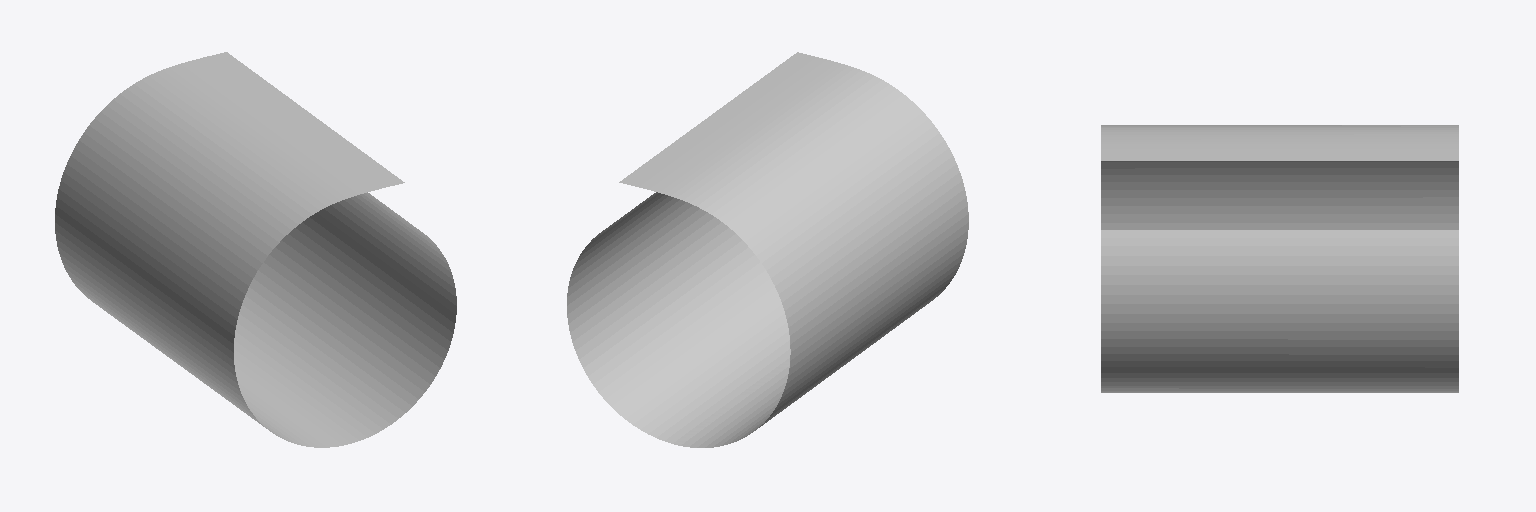
Rendered from CurvePaper_000003.obj.
The picture shows the model from 3 angles: view 1: azimuth 30°, elevation 25°; view 2: azimuth 150°, elevation 25°; view 3: azimuth 270°, elevation 25°; orthographic projection.
Visible parts, largest first — view 1: Plane; view 2: Plane; view 3: Plane.
Part boxes in pixels (x1,y1,x2,y2): Plane: (55, 52, 456, 447); Plane: (567, 52, 968, 447); Plane: (1101, 125, 1458, 392).
Bounding box in the file's own units: 1.64 × 1.74 × 2.26.